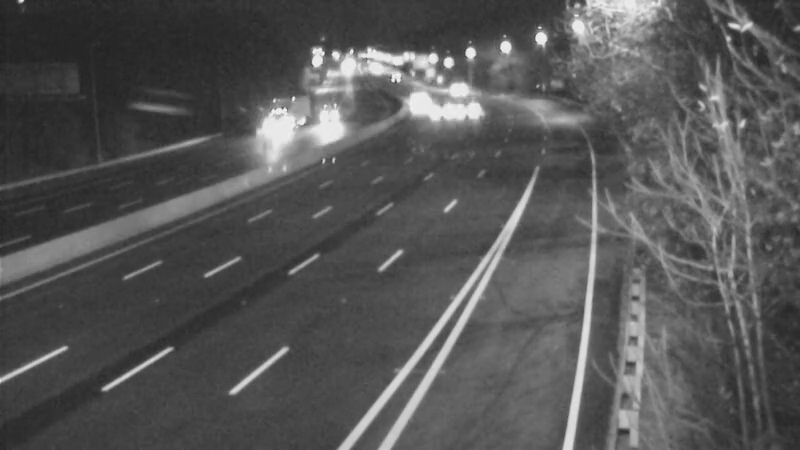vehicle: (371, 53, 421, 103), (435, 65, 485, 115), (397, 71, 447, 121), (396, 81, 446, 131), (445, 84, 495, 134), (414, 86, 464, 136), (253, 101, 303, 151), (306, 86, 356, 136)
